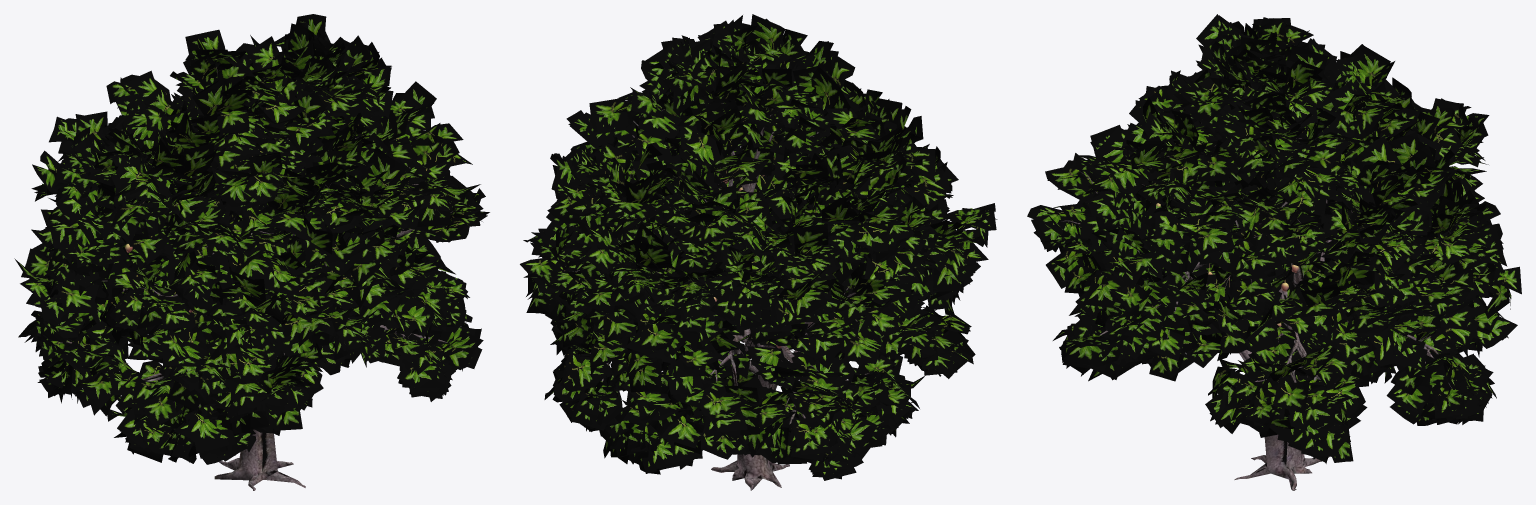
Rendered from mango_tree.lod1.glb.
3 renders of one model, left to right at view 1: azimuth 30°, elevation 25°; view 2: azimuth 150°, elevation 25°; view 3: azimuth 270°, elevation 25°, orthographic. The views are drawn at different scales.
Parts seen in each view (by area): view 1: leaves_Material.001_0, tree_Material.002_0; view 2: leaves_Material.001_0, tree_Material.002_0; view 3: leaves_Material.001_0, tree_Material.002_0.
Boxes of the visible parts, left/top/right/bottom form: leaves_Material.001_0: left=14, top=14, right=489, bottom=464; tree_Material.002_0: left=44, top=67, right=455, bottom=490; leaves_Material.001_0: left=520, top=14, right=997, bottom=480; tree_Material.002_0: left=570, top=67, right=967, bottom=490; leaves_Material.001_0: left=1027, top=14, right=1521, bottom=463; tree_Material.002_0: left=1061, top=77, right=1456, bottom=490.
Size of the model in its own units: 6.68 by 6.89 by 6.84.
Materials: 3 (3 with a texture image).
